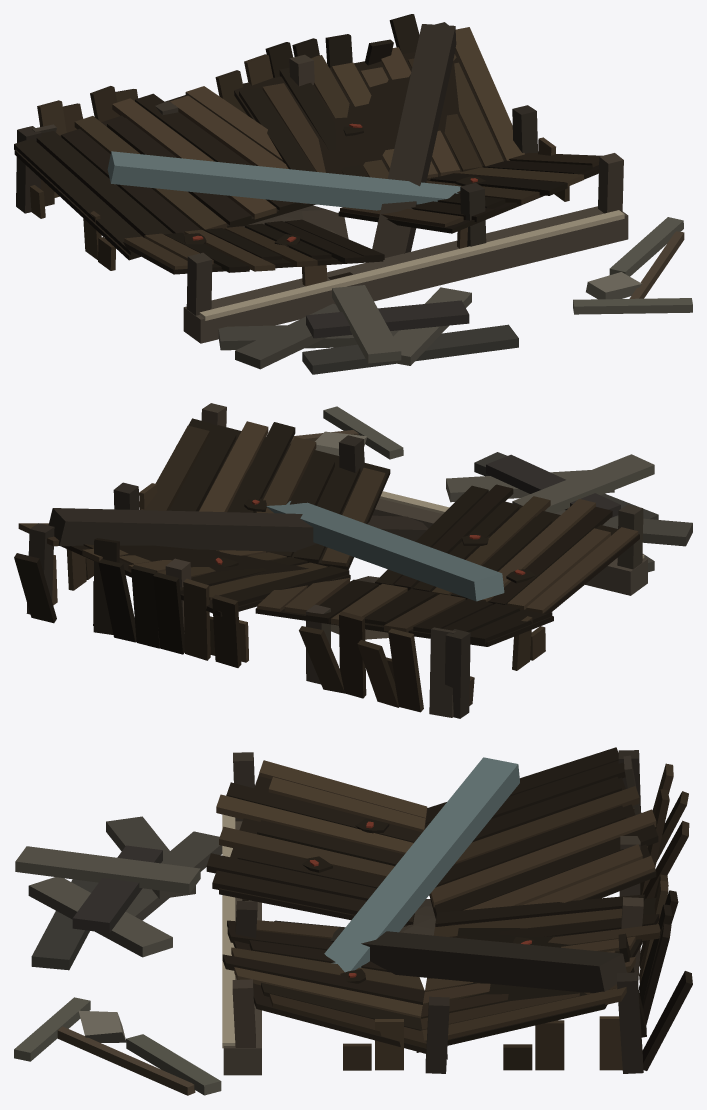
Rendered from VerHut08a.glb.
3 views of the same model, one above another, from view 1: azimuth 30°, elevation 25°; view 2: azimuth 150°, elevation 25°; view 3: azimuth 270°, elevation 25° (orthographic). The views are drawn at different scales.
Visible parts, largest first — view 1: VerHut08a_char2; view 2: VerHut08a_char2; view 3: VerHut08a_char2.
Boxes of the visible parts, x1,y1,x2,y2 form: VerHut08a_char2: [14, 14, 692, 374]; VerHut08a_char2: [14, 403, 692, 718]; VerHut08a_char2: [14, 747, 692, 1095].
Bounding box in the file's own units: 6.01 × 1.11 × 6.41.
